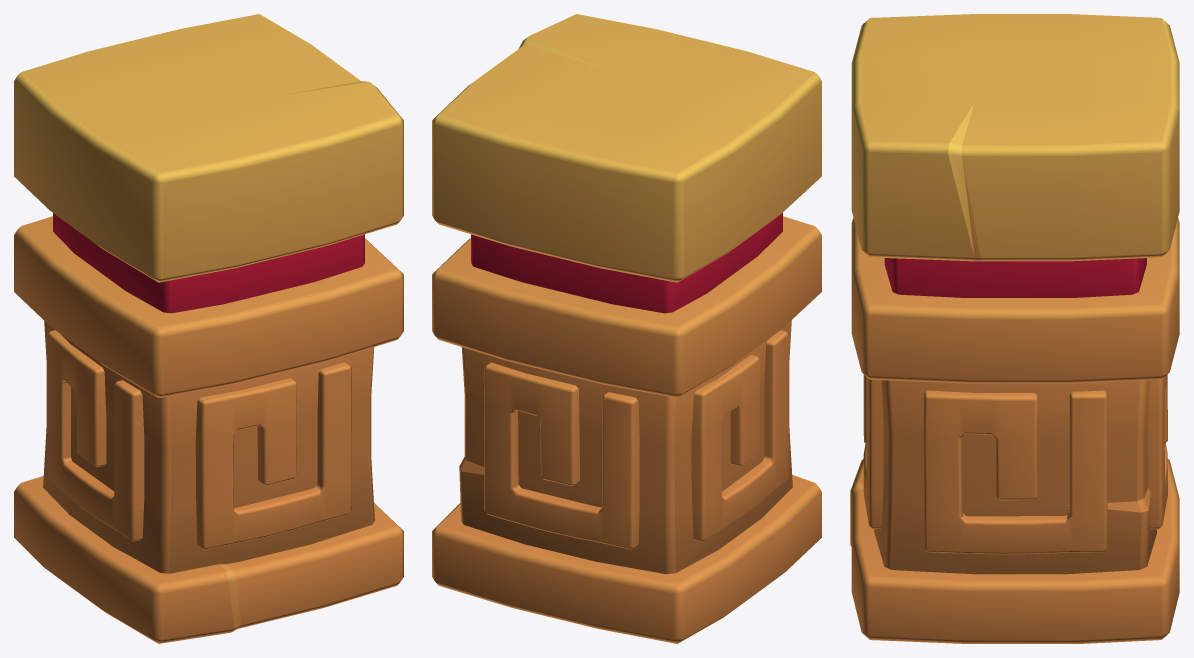
The model's file is pillar_large.fbx.
The picture shows the model from 3 angles, left to right: view 1: azimuth 30°, elevation 25°; view 2: azimuth 150°, elevation 25°; view 3: azimuth 270°, elevation 25°; orthographic projection. The views are drawn at different scales.
Visible parts, largest first — view 1: pillar_large; view 2: pillar_large; view 3: pillar_large.
Part boxes in pixels (x1,y1,x2,y2): pillar_large: (14, 14, 403, 643); pillar_large: (432, 14, 821, 643); pillar_large: (850, 14, 1179, 643).
Size of the model in its own units: 275 by 463 by 275.
